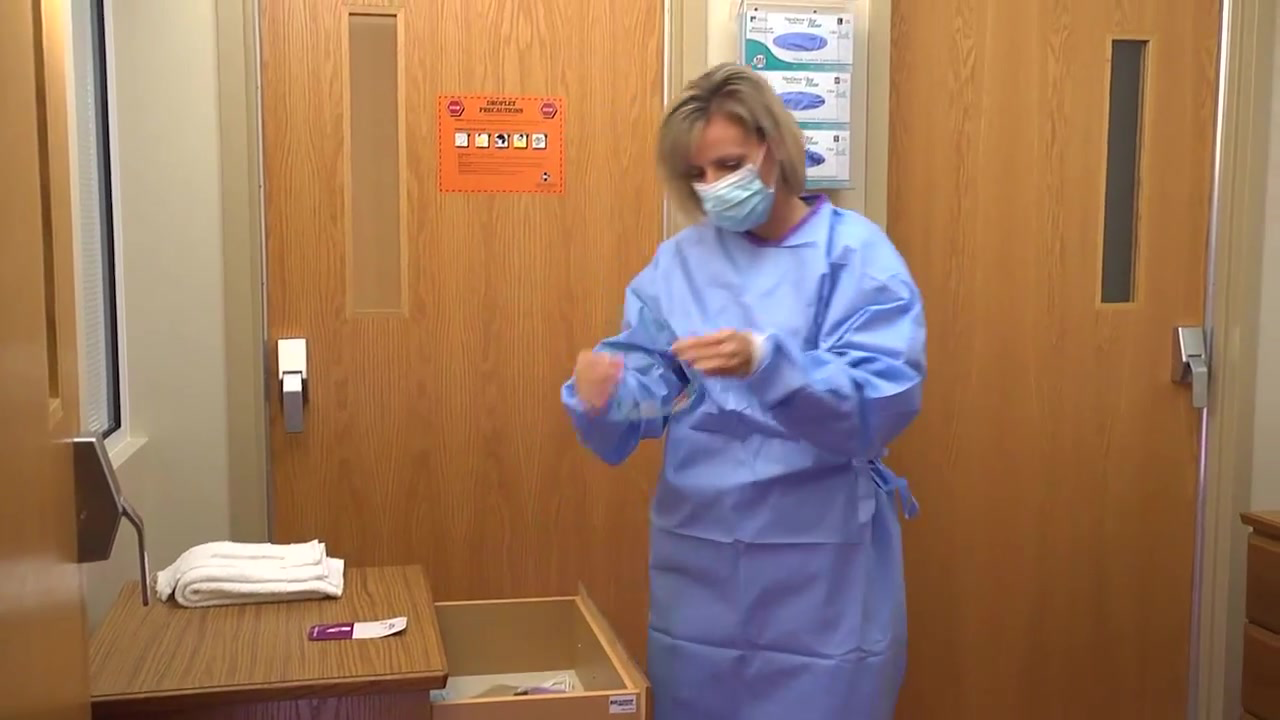Coverall: (615, 214, 913, 720)
with_mask: (680, 159, 788, 236)
